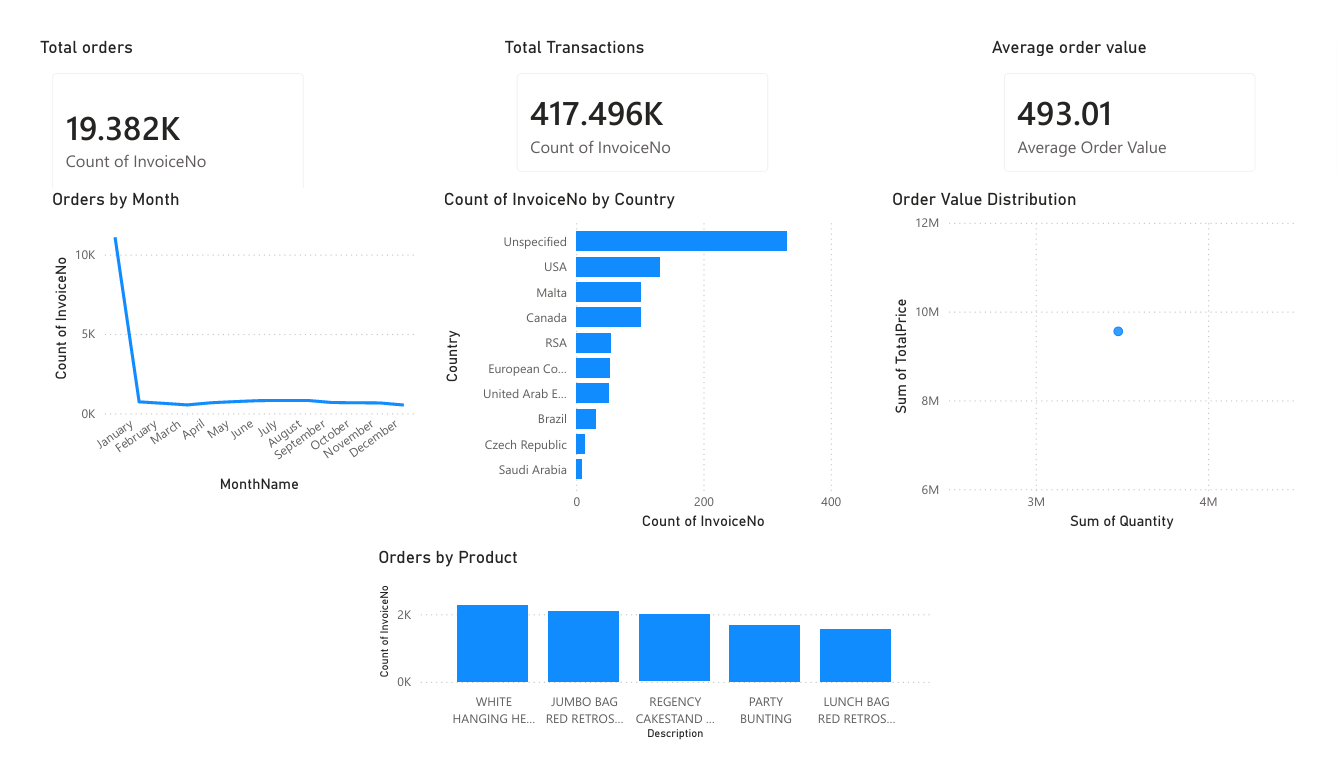

What the dashboard file says about the page in this screenshot:
{"tool":"powerbi","page":{"name":"Order and Transaction Dashboard","canvas":[1280,720],"ordinal":9},"visuals":[{"type":"cardVisual","title":"Total orders","fields":{"Data":["Count(data.InvoiceNo)"]},"box":[11,28.6,279.3,178.1],"z":0},{"type":"cardVisual","title":"Total Transactions","fields":{"Data":["CountNonNull(data.InvoiceNo)"]},"box":[464.1,28.6,279.3,149.6],"z":1000},{"type":"cardVisual","title":"Average order value","fields":{"Data":["data.Average Order Value"]},"box":[939.1,28.6,279.3,149.6],"z":2000},{"type":"lineChart","title":"Orders by Month","fields":{"Category":["data.MonthName"],"Y":["Count(data.InvoiceNo)"]},"box":[22.8,178.2,362,300.8],"z":3000},{"type":"clusteredBarChart","fields":{"Category":["data.Country"],"Y":["CountNonNull(data.InvoiceNo)"]},"box":[404.8,178.2,397.7,336.4],"z":4000},{"type":"scatterChart","title":"Order Value Distribution","fields":{"X":["Sum(data.Quantity)"],"Y":["Sum(data.TotalPrice)"]},"box":[842.4,178.2,410.5,336.4],"z":5000},{"type":"clusteredColumnChart","title":"Orders by Product","fields":{"Category":["data.Description"],"Y":["Count(data.InvoiceNo)"]},"box":[340.7,527.4,547.3,192.4],"z":6000}]}

Visuals, with their boxes in screenshot pixels (x1, y1, x2, y2), scaled from the page's 1280x720 canvas onto the 1338x770 screenshot:
"Total orders" cardVisual: locate(11, 31, 303, 221)
"Total Transactions" cardVisual: locate(485, 31, 777, 191)
"Average order value" cardVisual: locate(982, 31, 1274, 191)
"Orders by Month" lineChart: locate(24, 191, 402, 512)
clusteredBarChart - data.Country x CountNonNull(data.InvoiceNo): locate(423, 191, 839, 550)
"Order Value Distribution" scatterChart: locate(881, 191, 1310, 550)
"Orders by Product" clusteredColumnChart: locate(356, 564, 928, 769)
